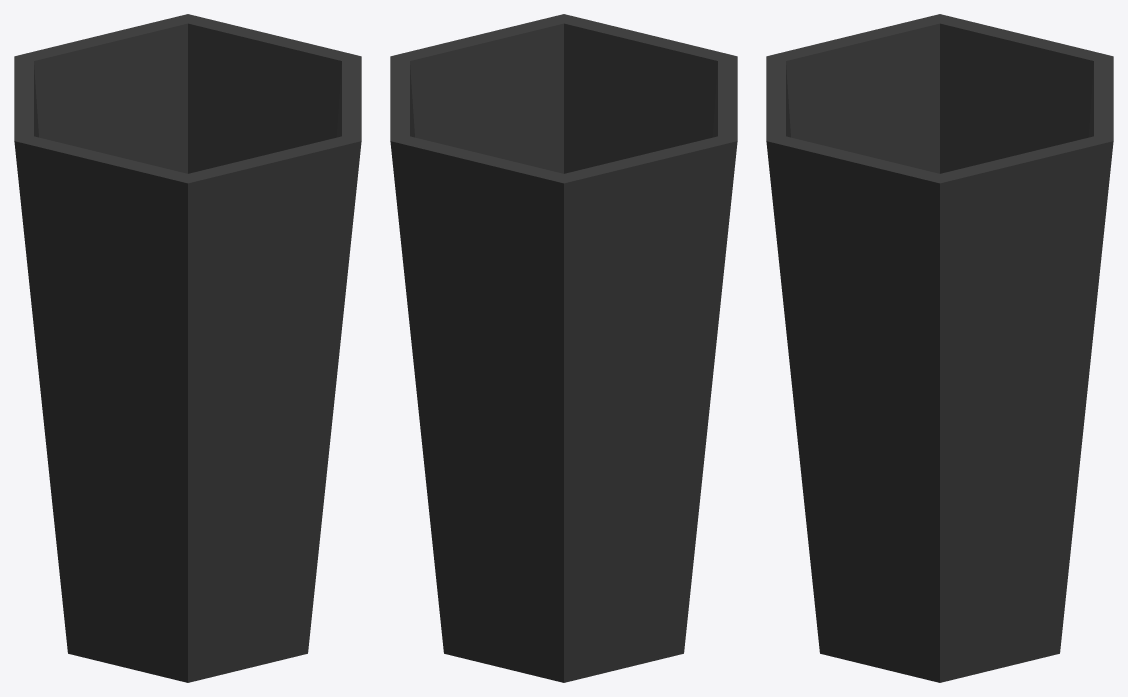
Rendered from PenHolderV1.fbx.
3 renders of one model, left to right at view 1: azimuth 30°, elevation 25°; view 2: azimuth 150°, elevation 25°; view 3: azimuth 270°, elevation 25°, orthographic.
Visible parts, largest first — view 1: PenHolderV1; view 2: PenHolderV1; view 3: PenHolderV1.
Part boxes in pixels (bbox=[...]): PenHolderV1: bbox=[14, 14, 361, 682]; PenHolderV1: bbox=[390, 14, 737, 682]; PenHolderV1: bbox=[766, 14, 1113, 682].
Bounding box in the file's own units: 4.88 × 7.06 × 4.23.
